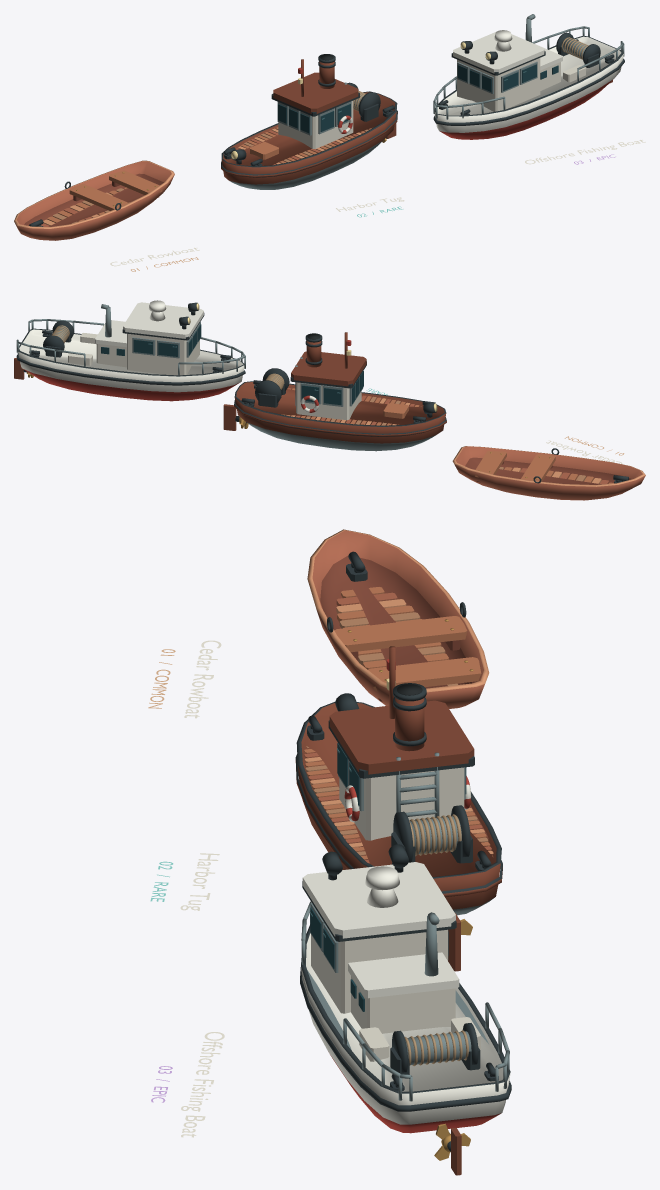
File: Harbor Fleet.fbx
3 views of the same model, one above another, from view 1: azimuth 30°, elevation 25°; view 2: azimuth 150°, elevation 25°; view 3: azimuth 270°, elevation 25° (orthographic). The views are drawn at different scales.
Visible parts, largest first — view 1: 3 | Epic | Offshore Fishing Boat|Offshore Fishing Boat|Dupli, 2 | Rare | Harbor Tug|Harbor Tug|Dupli|, 1 | Common | Cedar Rowboat|Cedar Rowboat|Dupli|; view 2: 3 | Epic | Offshore Fishing Boat|Offshore Fishing Boat|Dupli, 2 | Rare | Harbor Tug|Harbor Tug|Dupli|, 1 | Common | Cedar Rowboat|Cedar Rowboat|Dupli|; view 3: 3 | Epic | Offshore Fishing Boat|Offshore Fishing Boat|Dupli, 2 | Rare | Harbor Tug|Harbor Tug|Dupli|, 1 | Common | Cedar Rowboat|Cedar Rowboat|Dupli|, Offshore Fishing Boat.001.
Boxes of the visible parts, x1=… form: 3 | Epic | Offshore Fishing Boat|Offshore Fishing Boat|Dupli: x1=433, y1=14, x2=624, y2=139; 2 | Rare | Harbor Tug|Harbor Tug|Dupli|: x1=221, y1=54, x2=397, y2=189; 1 | Common | Cedar Rowboat|Cedar Rowboat|Dupli|: x1=14, y1=160, x2=174, y2=240; 3 | Epic | Offshore Fishing Boat|Offshore Fishing Boat|Dupli: x1=14, y1=300, x2=245, y2=401; 2 | Rare | Harbor Tug|Harbor Tug|Dupli|: x1=223, y1=332, x2=446, y2=451; 1 | Common | Cedar Rowboat|Cedar Rowboat|Dupli|: x1=452, y1=446, x2=645, y2=500; 3 | Epic | Offshore Fishing Boat|Offshore Fishing Boat|Dupli: x1=300, y1=844, x2=511, y2=1175; 2 | Rare | Harbor Tug|Harbor Tug|Dupli|: x1=295, y1=646, x2=502, y2=971; 1 | Common | Cedar Rowboat|Cedar Rowboat|Dupli|: x1=307, y1=529, x2=489, y2=708; Offshore Fishing Boat.001: x1=181, y1=1032, x2=224, y2=1137.
Size of what is drawn, in the model's own units: 1452 by 253 by 379.
